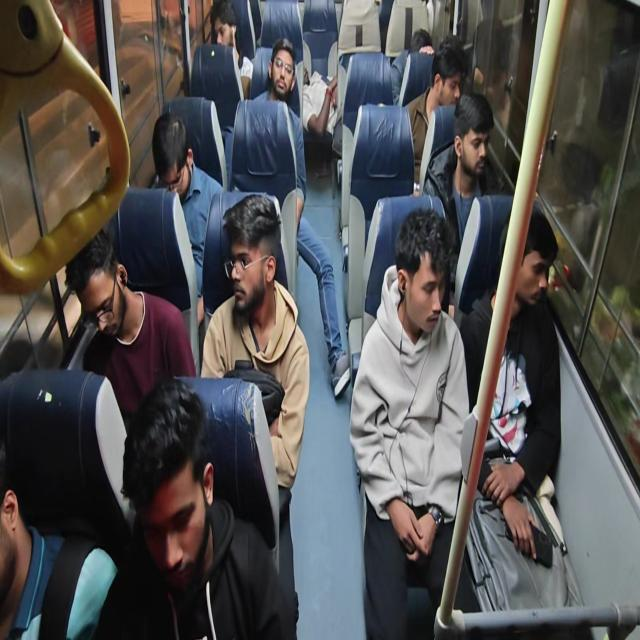person: (99, 376, 298, 639), (349, 206, 470, 638), (458, 204, 582, 614), (200, 192, 310, 636), (253, 37, 351, 398), (64, 225, 197, 429), (0, 443, 121, 640), (151, 111, 224, 322), (421, 91, 496, 292), (253, 37, 307, 228), (403, 35, 468, 191), (210, 0, 253, 101), (254, 37, 300, 117), (390, 27, 434, 105)
